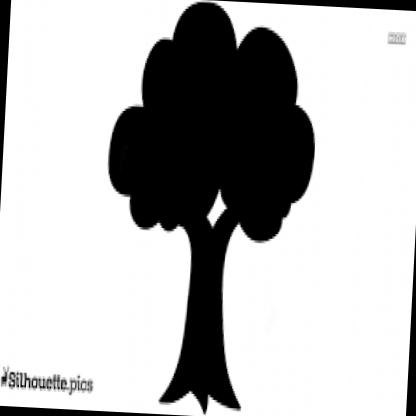crown_cloud: (99, 0, 323, 246)
root_only: (153, 366, 248, 416)
trunk_straight: (173, 272, 235, 360)
